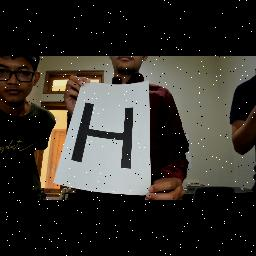h: (69, 100, 141, 174)
